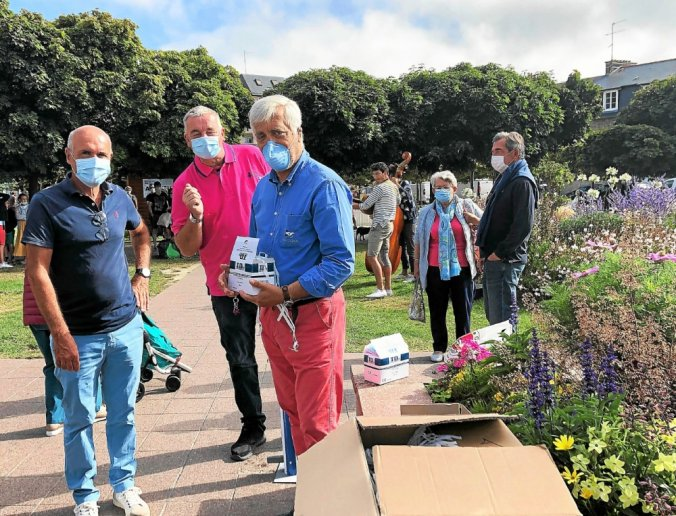with_mask: (249, 107, 302, 172), (70, 133, 117, 188), (185, 112, 223, 160), (490, 138, 517, 172), (432, 177, 455, 201)
